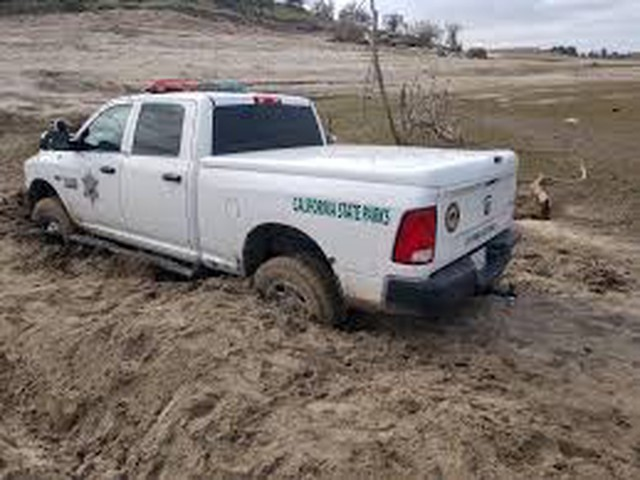Vehicle: (17, 78, 526, 322)
